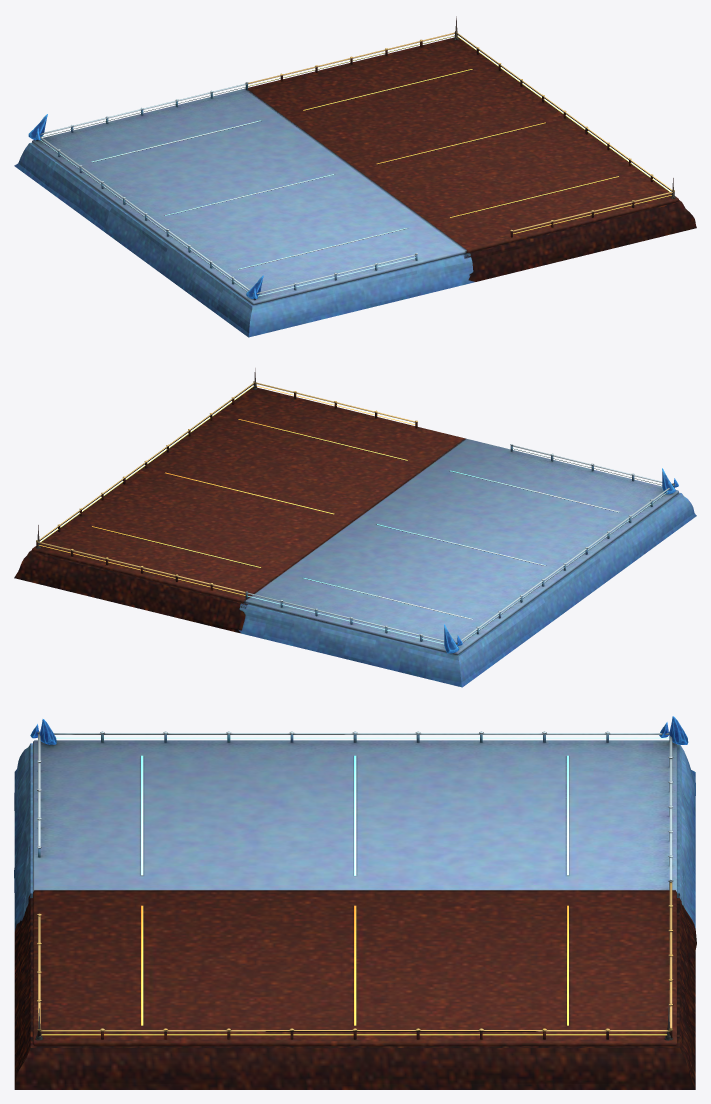
Rendered from plateau.glb.
3 renders of one model, top to bottom at view 1: azimuth 30°, elevation 25°; view 2: azimuth 150°, elevation 25°; view 3: azimuth 270°, elevation 25°, orthographic. The views are drawn at different scales.
Parts seen in each view (by area): view 1: plateau; view 2: plateau; view 3: plateau.
Part boxes in pixels (<box>): plateau: <box>14,16,696,337</box>; plateau: <box>14,368,696,687</box>; plateau: <box>14,716,696,1089</box>.
Size of the model in its own units: 84.8 by 9.47 by 77.01.
Materials: 5 (5 with a texture image).
